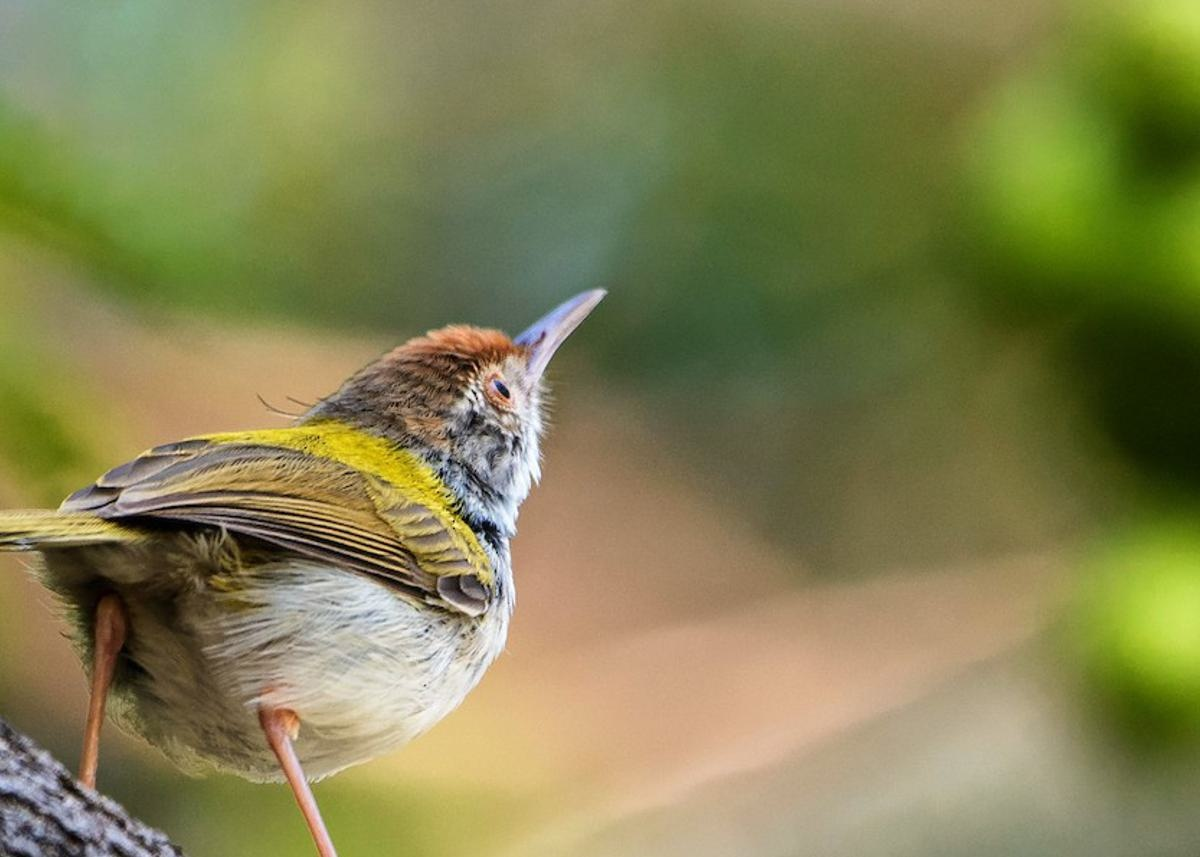tailorbird: (1, 189, 670, 842)
